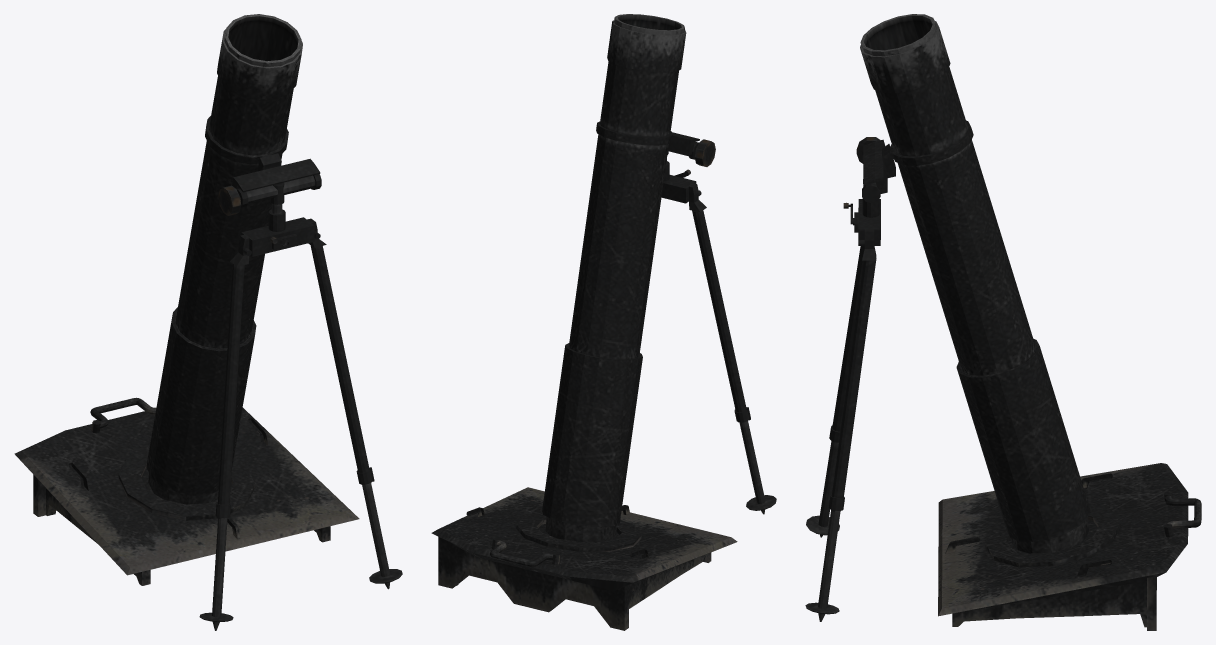
File: 迫击炮.FBX
3 views of the same model, side by side, from view 1: azimuth 30°, elevation 25°; view 2: azimuth 150°, elevation 25°; view 3: azimuth 270°, elevation 25° (orthographic). The views are drawn at different scales.
Visible parts, largest first — view 1: 迫击炮; view 2: 迫击炮; view 3: 迫击炮.
Part boxes in pixels (left/top/right/bottom): 迫击炮: left=14, top=14, right=402, bottom=630; 迫击炮: left=431, top=14, right=776, bottom=630; 迫击炮: left=805, top=14, right=1201, bottom=630.
Size of the model in its own units: 0.3686 by 0.8402 by 0.5414.
